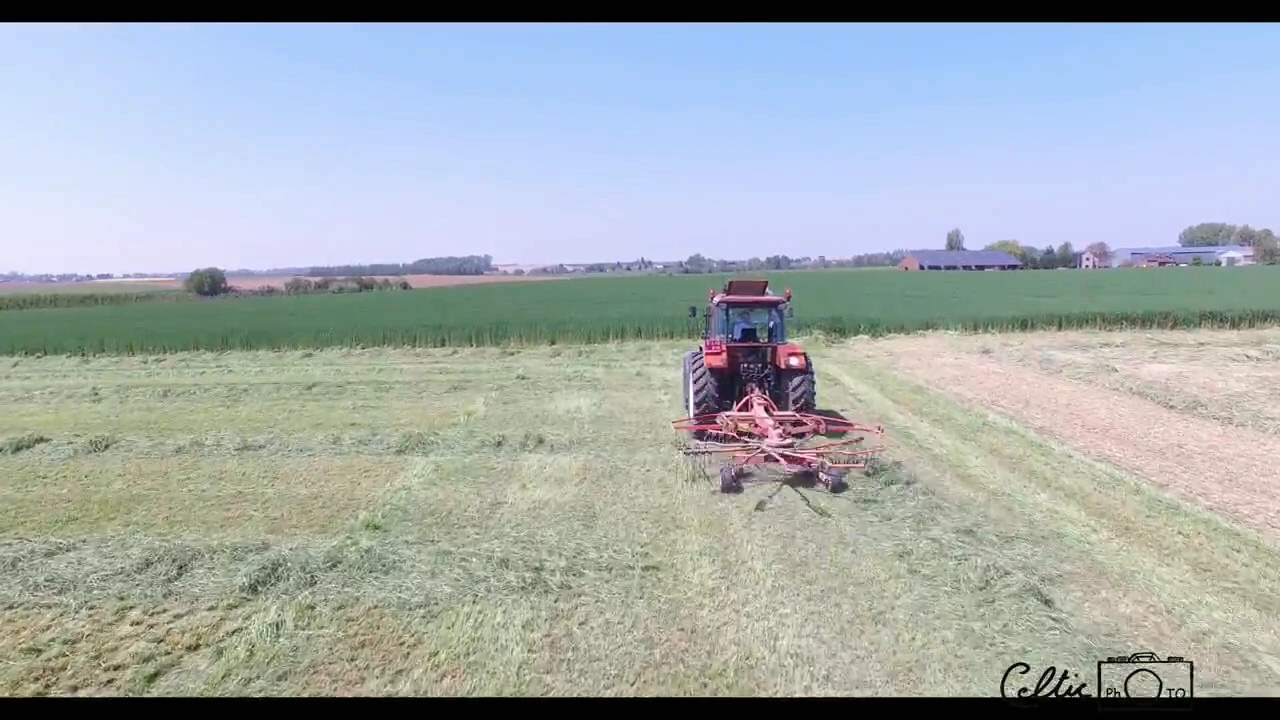traktor: (682, 293, 816, 418)
